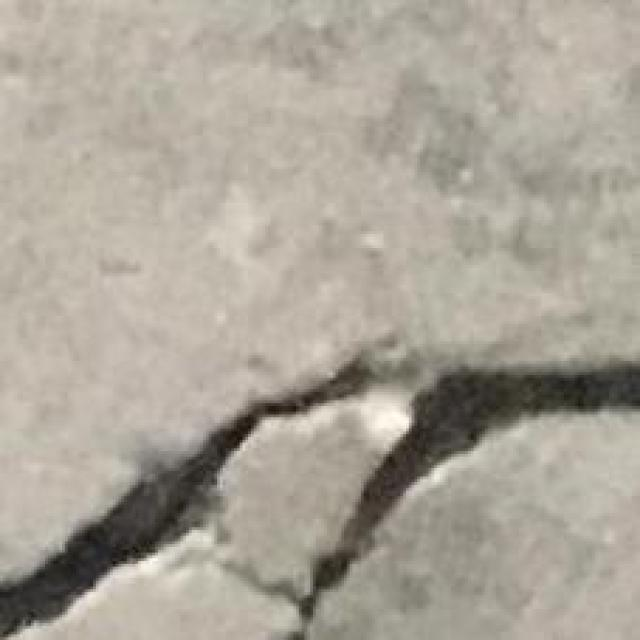branched cracks: (0, 337, 639, 639)
